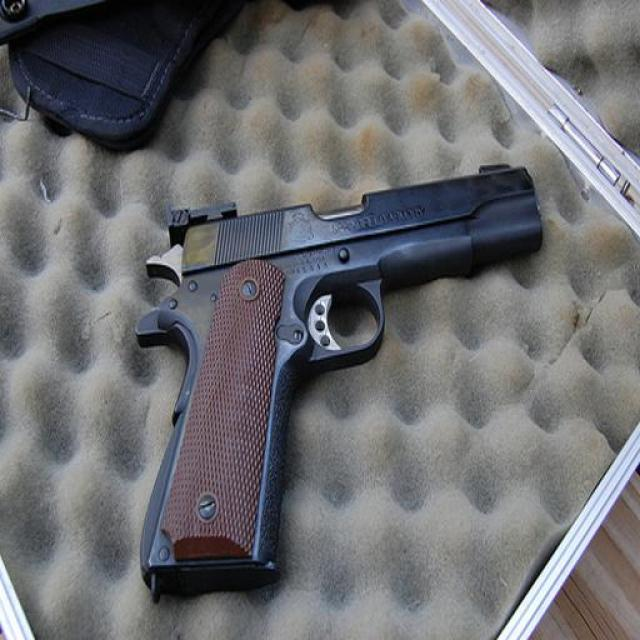pistol: (130, 155, 541, 599)
